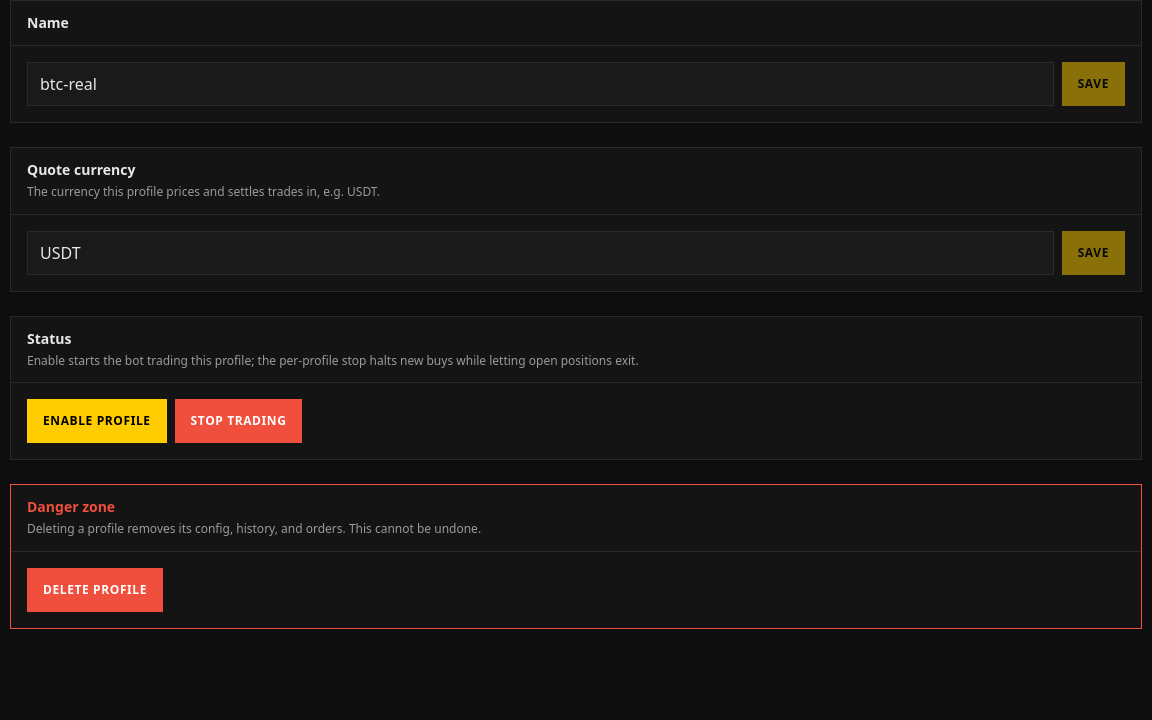
Test case: <ProfileGeneralPanel> › surfaces a toast and closes the dialog when enabling rejects
Click the button with test id "profile-general-enable": (97, 421) top-left (27, 399), bottom-right (167, 443)
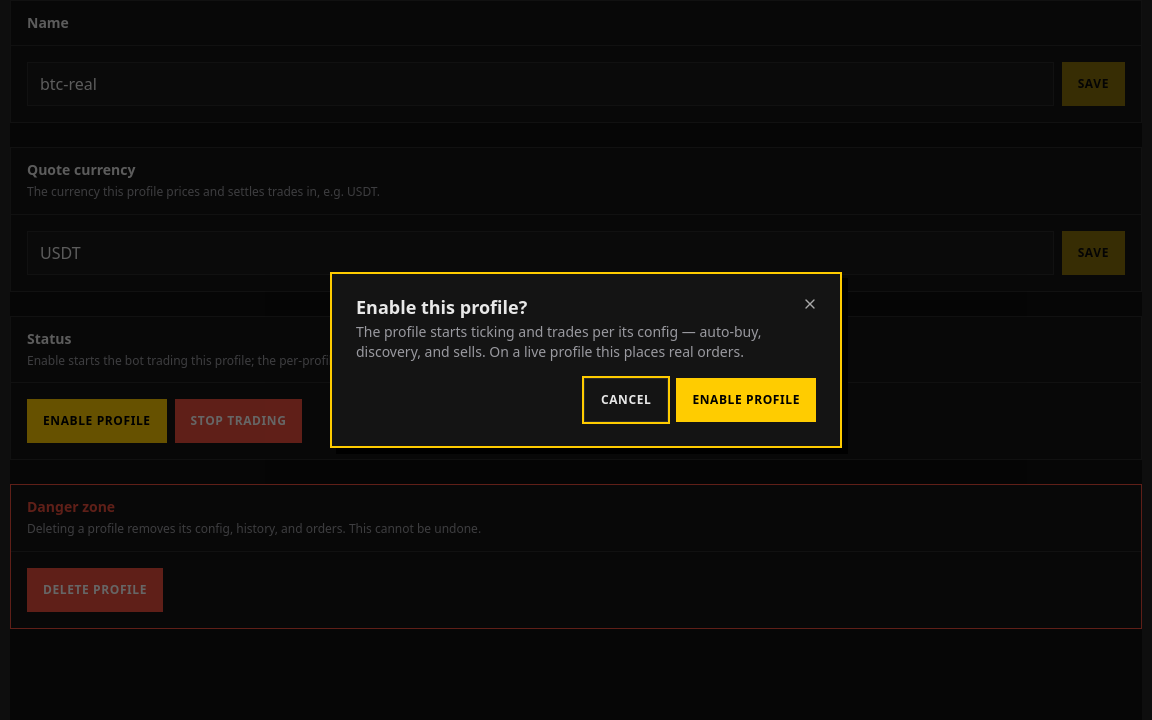
Click the button with test id "profile-general-enable-confirm": (746, 400) top-left (676, 378), bottom-right (816, 422)
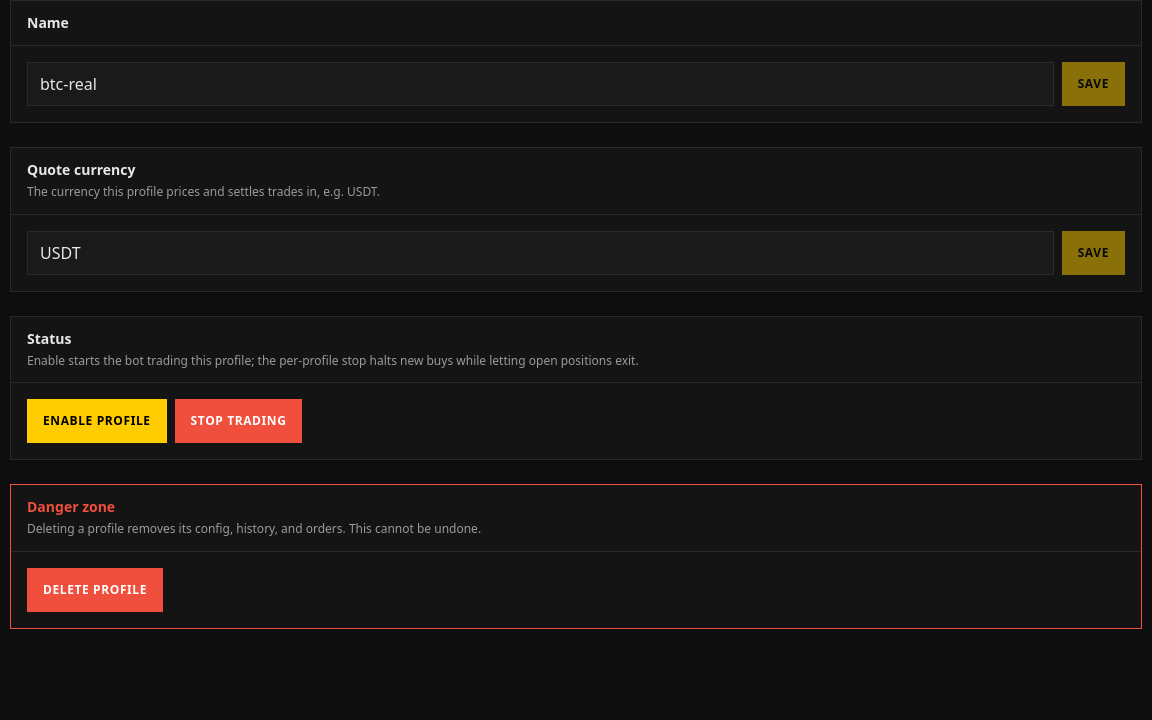
Expected: the dialog with test id "profile-general-enable-dialog" is gone
